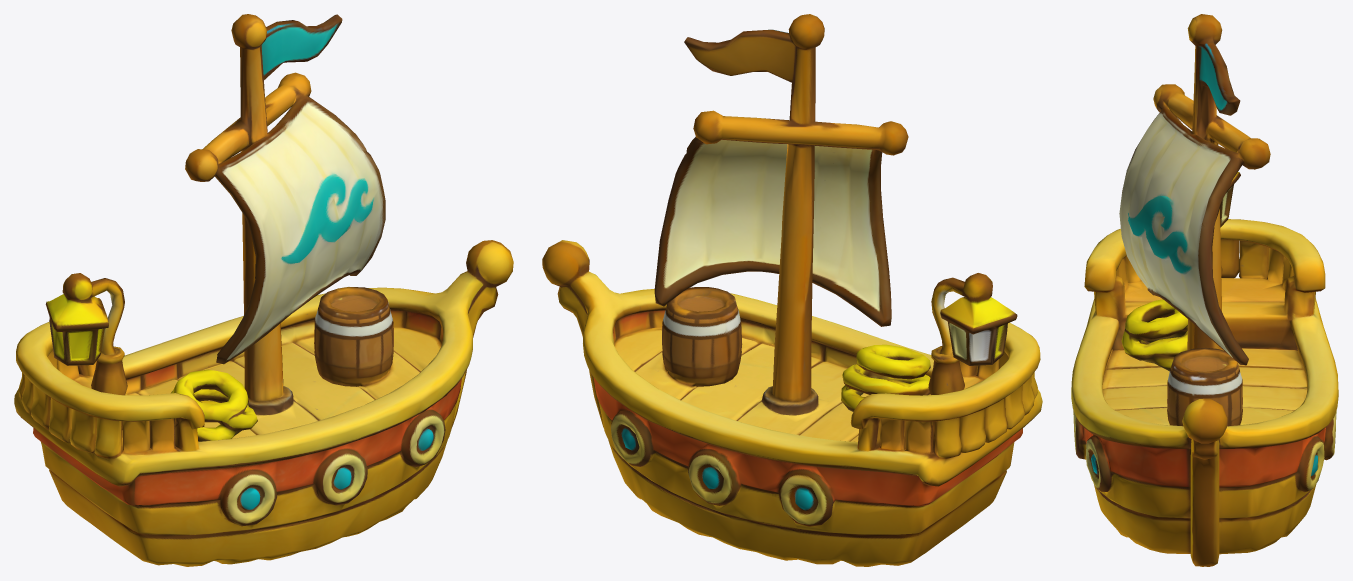
Rendered from tripo_convert_ca02202f-10ad-4539-943b-8e7605ade483.fbx.
3 renders of one model, left to right at view 1: azimuth 30°, elevation 25°; view 2: azimuth 150°, elevation 25°; view 3: azimuth 270°, elevation 25°, orthographic. The views are drawn at different scales.
Parts seen in each view (by area): view 1: tripo_node_ca02202f; view 2: tripo_node_ca02202f; view 3: tripo_node_ca02202f.
Boxes of the visible parts, bbox=[...] form: tripo_node_ca02202f: bbox=[14, 14, 513, 566]; tripo_node_ca02202f: bbox=[542, 14, 1042, 566]; tripo_node_ca02202f: bbox=[1071, 14, 1338, 566].
Size of the model in its own units: 0.9564 by 0.9798 by 0.4927.
Materials: 1 (1 with a texture image).
